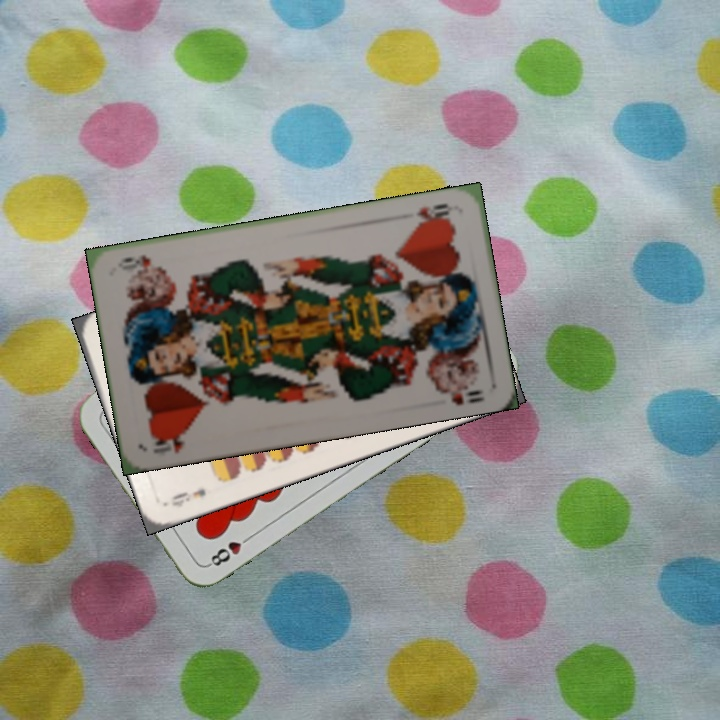E9: (167, 484, 209, 510)
H8: (203, 530, 255, 569)
HO: (148, 428, 189, 457), (412, 199, 452, 228)
